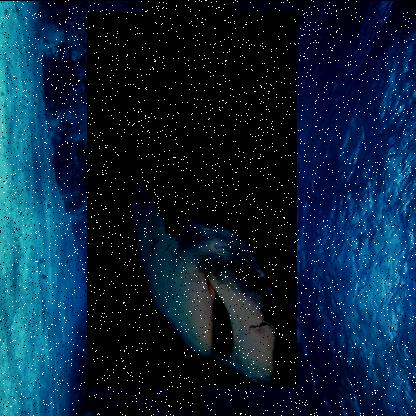tiger-shark: (86, 10, 297, 386)
